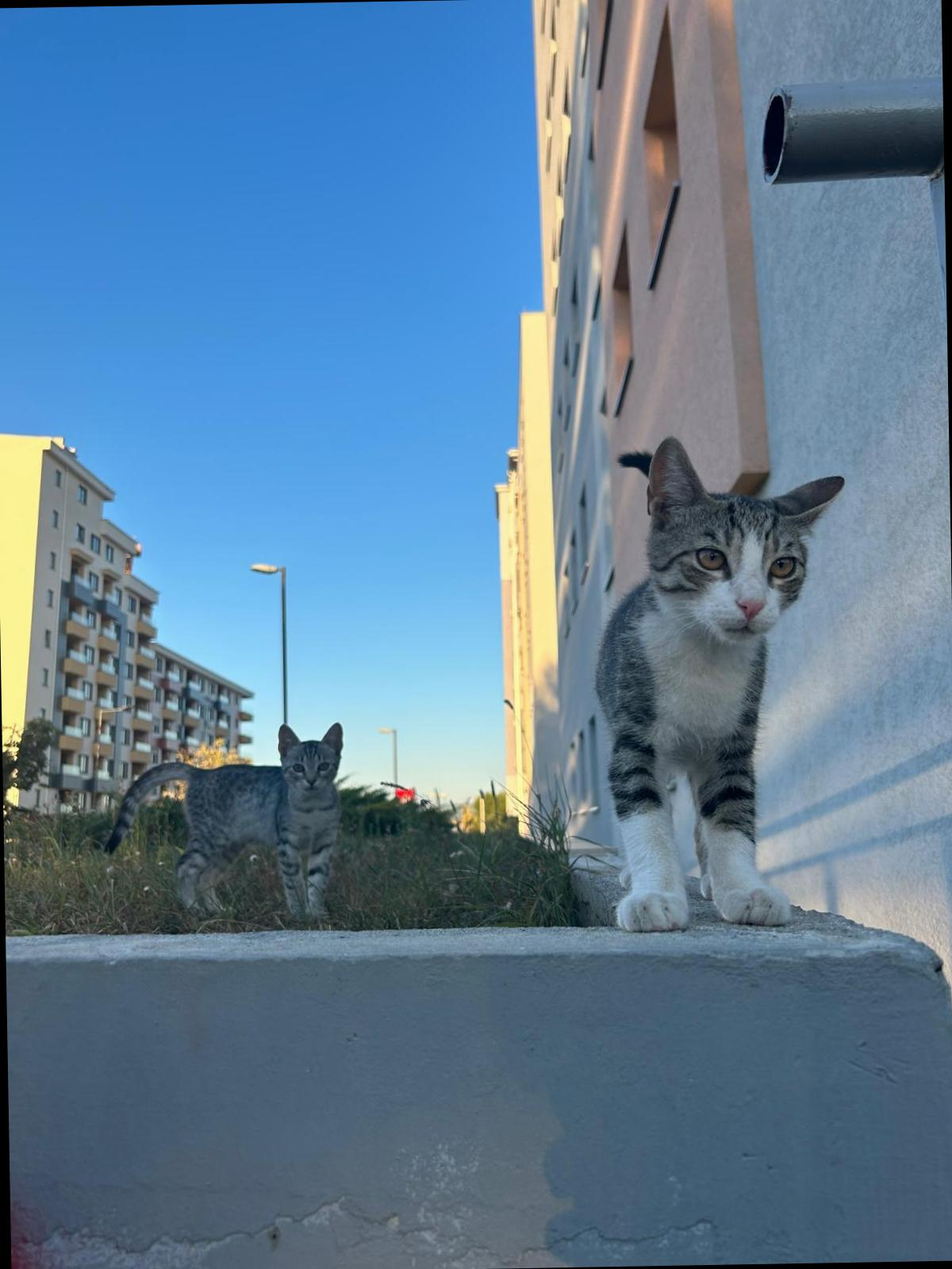macka: (589, 433, 852, 932), (98, 721, 347, 918)
